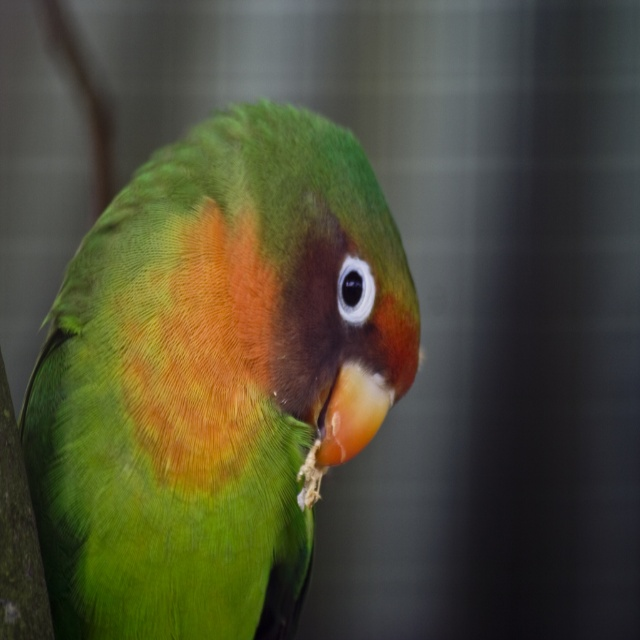Parrot: (0, 99, 421, 640)
